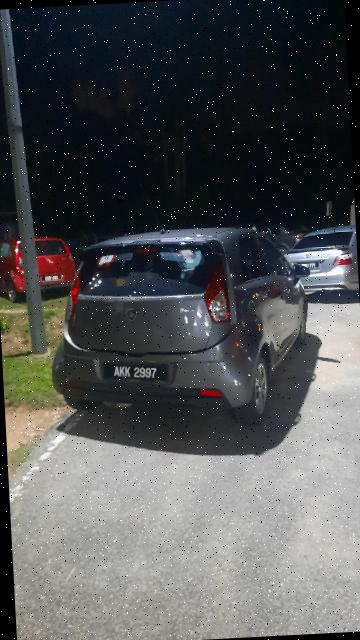License_Plate: (100, 357, 172, 389)
car: (44, 221, 315, 437)
